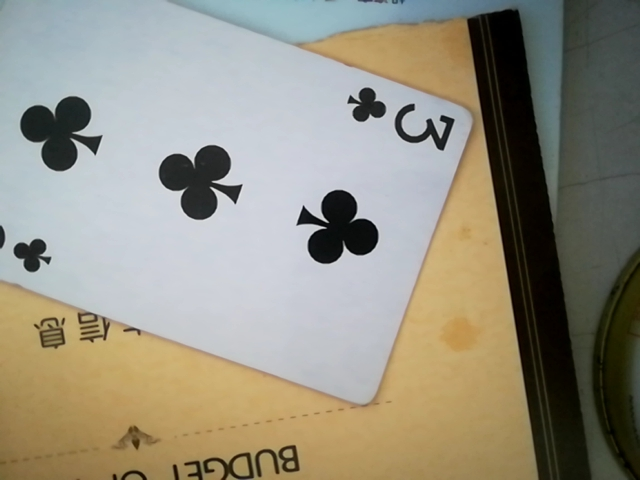mh 3: (0, 3, 492, 414)
